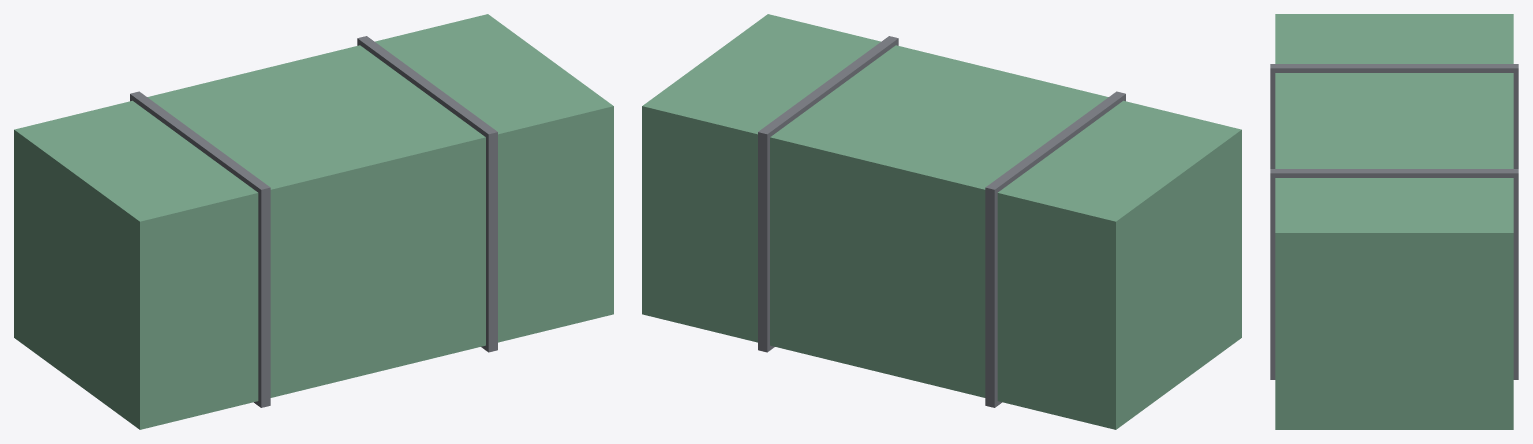
Rendered from hay-bale.glb.
3 renders of one model, left to right at view 1: azimuth 30°, elevation 25°; view 2: azimuth 150°, elevation 25°; view 3: azimuth 270°, elevation 25°, orthographic. The views are drawn at different scales.
Visible parts, largest first — view 1: hay-bale; view 2: hay-bale; view 3: hay-bale.
Part boxes in pixels (<box>): hay-bale: <box>14,14,613,429</box>; hay-bale: <box>642,14,1241,429</box>; hay-bale: <box>1270,14,1518,429</box>.
Bounding box in the file's own units: 1 × 0.44 × 0.48.
